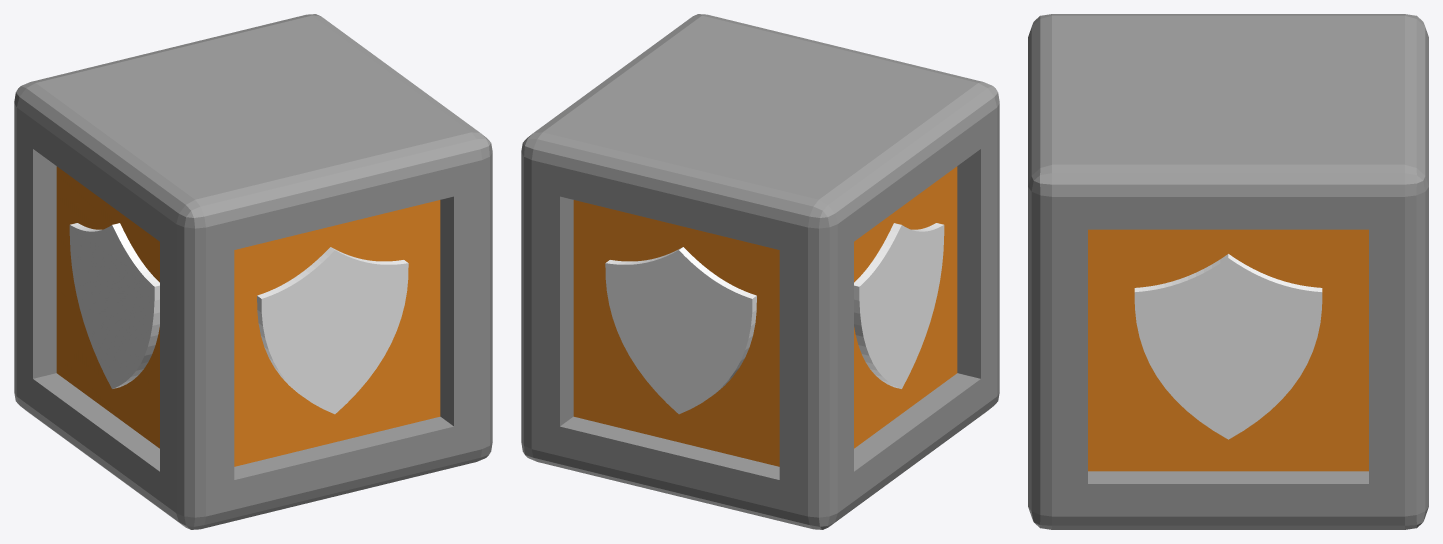
The model's file is Shield Box.fbx.
3 renders of one model, left to right at view 1: azimuth 30°, elevation 25°; view 2: azimuth 150°, elevation 25°; view 3: azimuth 270°, elevation 25°, orthographic. The views are drawn at different scales.
Visible parts, largest first — view 1: Shield Box, Shield Icon; view 2: Shield Box, Shield Icon; view 3: Shield Box, Shield Icon.
Part boxes in pixels (x1,y1,x2,y2): Shield Box: [14, 14, 492, 529]; Shield Icon: [69, 223, 408, 414]; Shield Box: [521, 14, 999, 529]; Shield Icon: [605, 223, 944, 414]; Shield Box: [1028, 14, 1428, 529]; Shield Icon: [1134, 254, 1322, 439].
Size of the model in its own units: 200 by 200 by 200.
